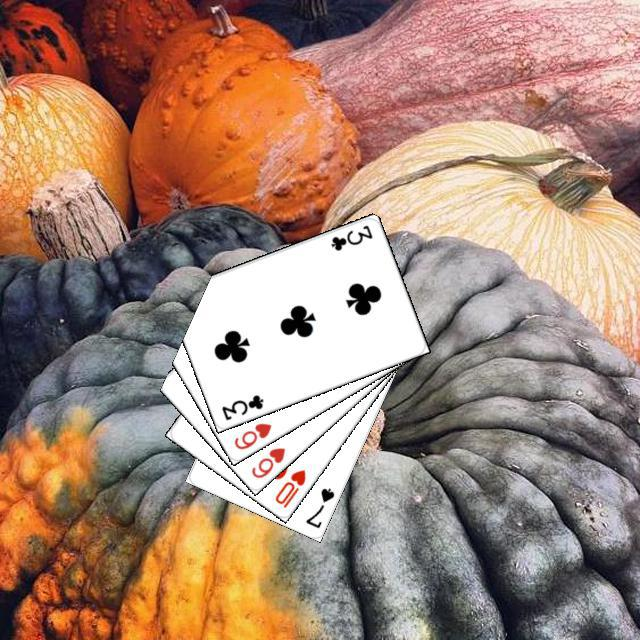10h: (270, 464, 307, 510)
3c: (217, 390, 266, 422), (326, 220, 374, 252)
6h: (247, 442, 287, 480), (229, 418, 273, 451)
7s: (301, 483, 336, 530)
